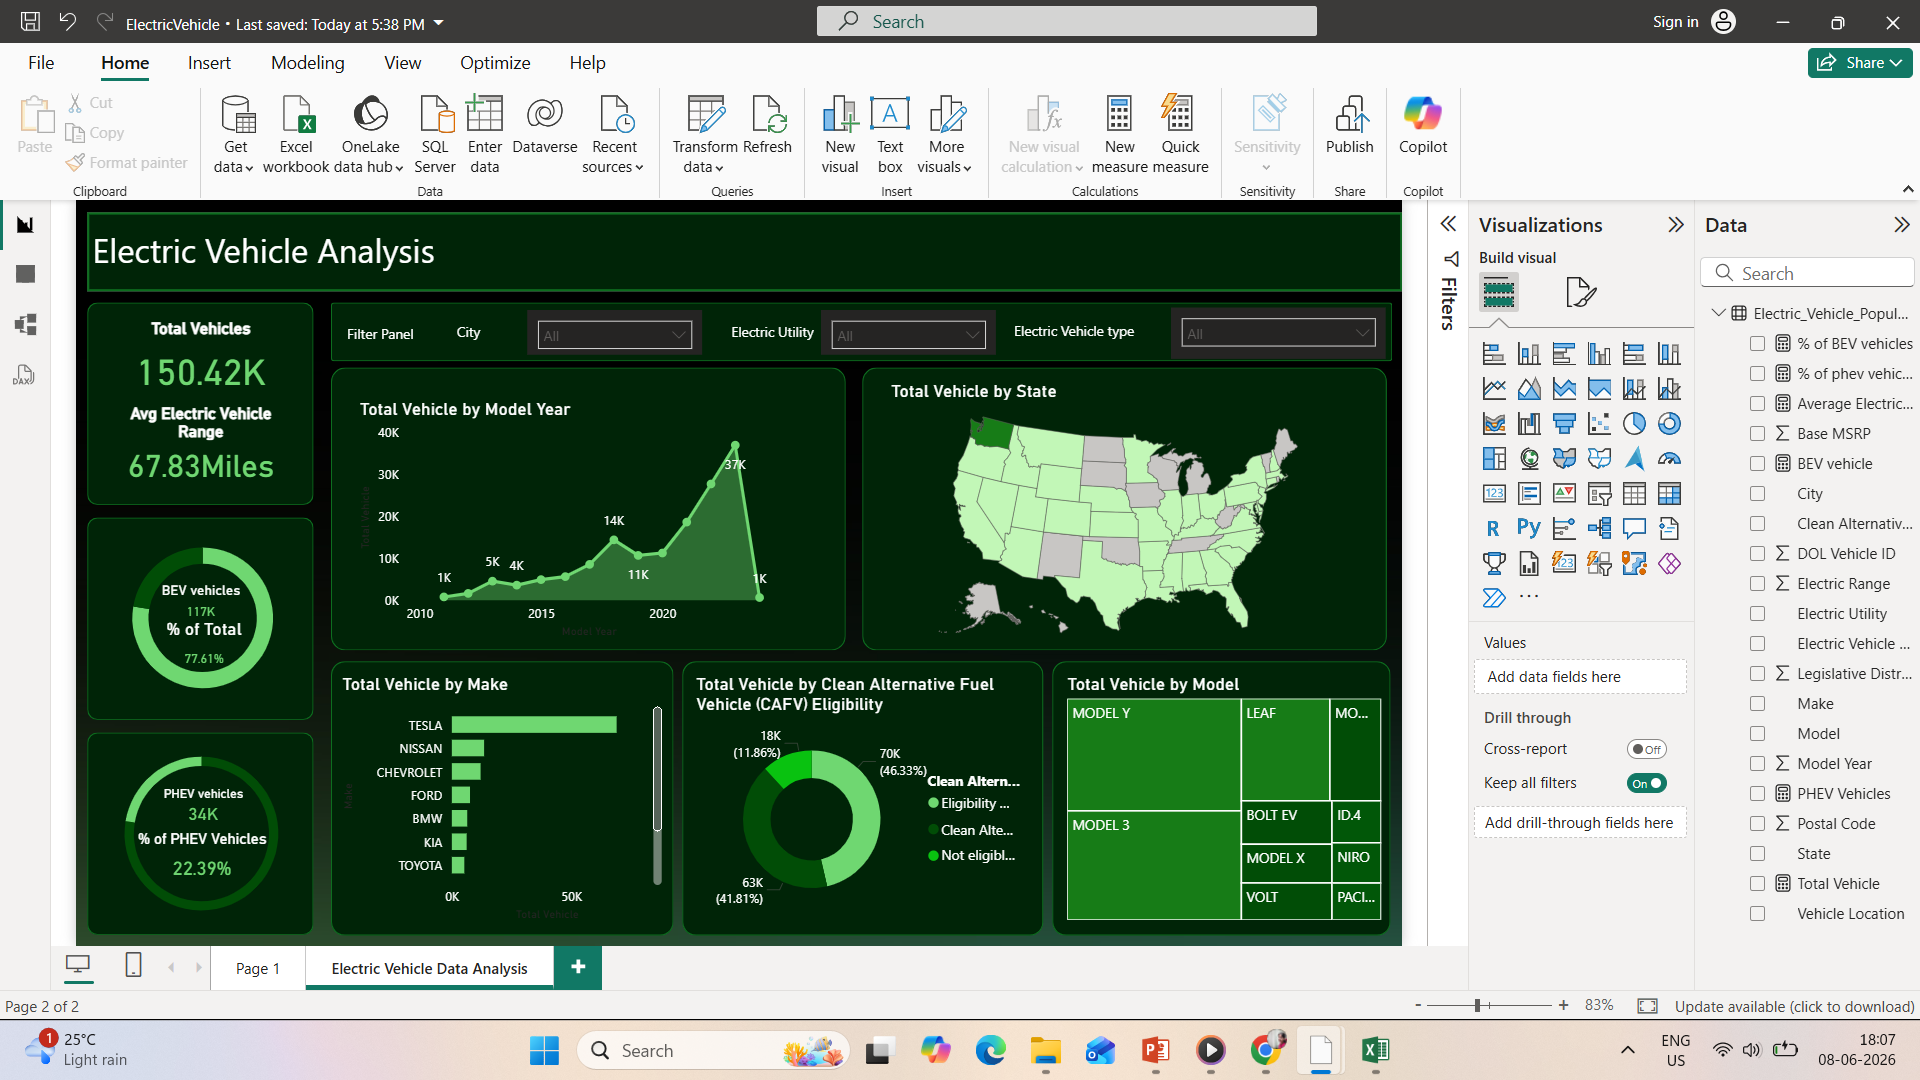

The page's visual inventory and layout, read from the dashboard file:
{"tool":"powerbi","page":{"name":"Electric Vehicle Data Analysis","canvas":[1280,720],"ordinal":1},"visuals":[{"type":"shape","box":[10.9,12.1,1269.2,76],"z":0},{"type":"shape","box":[10.9,98.9,218.4,195.4],"z":1000},{"type":"shape","box":[10.9,513.9,218.4,195.4],"z":2000},{"type":"shape","box":[10.9,306.4,218.4,195.4],"z":3000},{"type":"textbox","box":[10.9,21.7,1269.2,57.9],"z":4000},{"type":"card","title":"Total Vehicles","fields":{"Values":["Electric_Vehicle_Population_Data.Total Vehicle"]},"box":[41,114.6,159.3,82],"z":5000},{"type":"card","title":"Avg Electric  Vehicle Range","fields":{"Values":["Electric_Vehicle_Population_Data.Average Electric Range"]},"box":[41,196.6,159.3,82],"z":6000},{"type":"donutChart","fields":{"Category":["Electric_Vehicle_Population_Data.Electric Vehicle Type"],"Y":["Electric_Vehicle_Population_Data.Total Vehicle"]},"box":[15.7,313.7,213.5,179.8],"z":7000},{"type":"donutChart","fields":{"Category":["Electric_Vehicle_Population_Data.Electric Vehicle Type"],"Y":["Electric_Vehicle_Population_Data.Total Vehicle"]},"box":[13.3,513.9,216,195.4],"z":8000},{"type":"card","title":"BEV vehicles","fields":{"Values":["Electric_Vehicle_Population_Data.BEV vehicle"]},"box":[73.6,369.2,94.1,44.6],"z":9000},{"type":"card","title":"% of Total","fields":{"Values":["Electric_Vehicle_Population_Data.% of BEV vehicles"]},"box":[67.6,404.2,112.2,61.5],"z":10000},{"type":"card","title":"PHEV  vehicles","fields":{"Values":["Electric_Vehicle_Population_Data.PHEV Vehicles"]},"box":[62.7,565.8,120.6,42.2],"z":11000},{"type":"card","title":"% of PHEV Vehicles","fields":{"Values":["Electric_Vehicle_Population_Data.% of phev vehicles"]},"box":[51.9,608,139.9,57.9],"z":12000},{"type":"shape","box":[584.6,444.6,348.5,264.8],"z":13000},{"type":"shape","box":[942.7,444.6,326.6,264.8],"z":14000},{"type":"shape","box":[245.6,444.6,330.7,264.8],"z":15000},{"type":"shape","box":[245.6,161.9,496.7,273.1],"z":16000},{"type":"shape","box":[758.8,161.9,506.3,273.1],"z":17000},{"type":"shape","box":[246.1,98.9,1024.3,56.7],"z":18000},{"type":"areaChart","fields":{"Y":["Electric_Vehicle_Population_Data.Total Vehicle"],"Category":["Electric_Vehicle_Population_Data.Model Year"]},"box":[269,192.1,408.9,236],"z":19000},{"type":"shapeMap","fields":{"Value":["Electric_Vehicle_Population_Data.Total Vehicle"],"Category":["Electric_Vehicle_Population_Data.State"]},"box":[782.2,174.3,448.7,260.7],"z":20000},{"type":"donutChart","fields":{"Y":["Electric_Vehicle_Population_Data.Total Vehicle"],"Category":["Electric_Vehicle_Population_Data.Clean Alternative Fuel Vehicle (CAFV) Eligibility"]},"box":[594.2,456.9,329.3,242.9],"z":21000},{"type":"barChart","fields":{"Y":["Electric_Vehicle_Population_Data.Total Vehicle"],"Category":["Electric_Vehicle_Population_Data.Make"]},"box":[252.5,456.9,318.4,242.9],"z":22000},{"type":"treemap","fields":{"Values":["Electric_Vehicle_Population_Data.Total Vehicle"],"Group":["Electric_Vehicle_Population_Data.Model"]},"box":[952.3,456.9,312.9,242.9],"z":23000},{"type":"slicer","fields":{"Values":["Electric_Vehicle_Population_Data.City"]},"box":[435.5,106.2,168.9,43.4],"z":24000},{"type":"slicer","fields":{"Values":["Electric_Vehicle_Population_Data.Electric Utility"]},"box":[719,106.2,168.9,43.4],"z":25000},{"type":"slicer","fields":{"Values":["Electric_Vehicle_Population_Data.Electric Vehicle Type"]},"box":[1056.8,103.8,207.5,49.5],"z":26000},{"type":"textbox","box":[252.1,114.6,83.2,35],"z":27000},{"type":"textbox","box":[335.4,113.4,86.9,29],"z":28000},{"type":"textbox","box":[627.3,113.4,100.1,29],"z":29000},{"type":"textbox","box":[887.9,112.2,150.8,30.2],"z":30000}]}

Visuals, with their boxes on the page's 1280x720 design canvas (x1, y1, x2, y2). These are canvas units, not pixel positions in the 1920x1080 screenshot, which may show the page scaled, cropped or inside an application window:
shape: [11,12,1280,88]
shape: [11,99,229,294]
shape: [11,514,229,709]
shape: [11,306,229,502]
textbox: [11,22,1280,80]
"Total Vehicles" card: [41,115,200,197]
"Avg Electric  Vehicle Range" card: [41,197,200,279]
donutChart - Electric_Vehicle_Population_Data.Electric Vehicle Type x Electric_Vehicle_Population_Data.Total Vehicle: [16,314,229,494]
donutChart - Electric_Vehicle_Population_Data.Electric Vehicle Type x Electric_Vehicle_Population_Data.Total Vehicle: [13,514,229,709]
"BEV vehicles" card: [74,369,168,414]
"% of Total" card: [68,404,180,466]
"PHEV  vehicles" card: [63,566,183,608]
"% of PHEV Vehicles" card: [52,608,192,666]
shape: [585,445,933,709]
shape: [943,445,1269,709]
shape: [246,445,576,709]
shape: [246,162,742,435]
shape: [759,162,1265,435]
shape: [246,99,1270,156]
areaChart - Electric_Vehicle_Population_Data.Total Vehicle x Electric_Vehicle_Population_Data.Model Year: [269,192,678,428]
shapeMap - Electric_Vehicle_Population_Data.Total Vehicle x Electric_Vehicle_Population_Data.State: [782,174,1231,435]
donutChart - Electric_Vehicle_Population_Data.Total Vehicle x Electric_Vehicle_Population_Data.Clean Alternative Fuel Vehicle (CAFV) Eligibility: [594,457,924,700]
barChart - Electric_Vehicle_Population_Data.Total Vehicle x Electric_Vehicle_Population_Data.Make: [252,457,571,700]
treemap - Electric_Vehicle_Population_Data.Total Vehicle x Electric_Vehicle_Population_Data.Model: [952,457,1265,700]
slicer - Electric_Vehicle_Population_Data.City: [436,106,604,150]
slicer - Electric_Vehicle_Population_Data.Electric Utility: [719,106,888,150]
slicer - Electric_Vehicle_Population_Data.Electric Vehicle Type: [1057,104,1264,153]
textbox: [252,115,335,150]
textbox: [335,113,422,142]
textbox: [627,113,727,142]
textbox: [888,112,1039,142]
